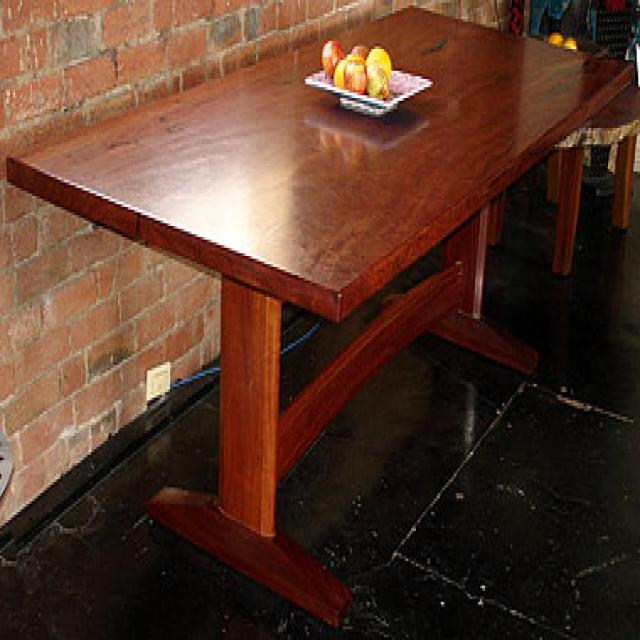table: (3, 3, 634, 632)
